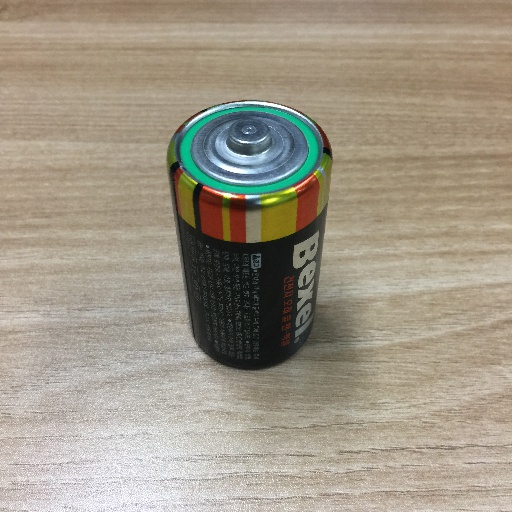Battery_0: (159, 74, 345, 378)
